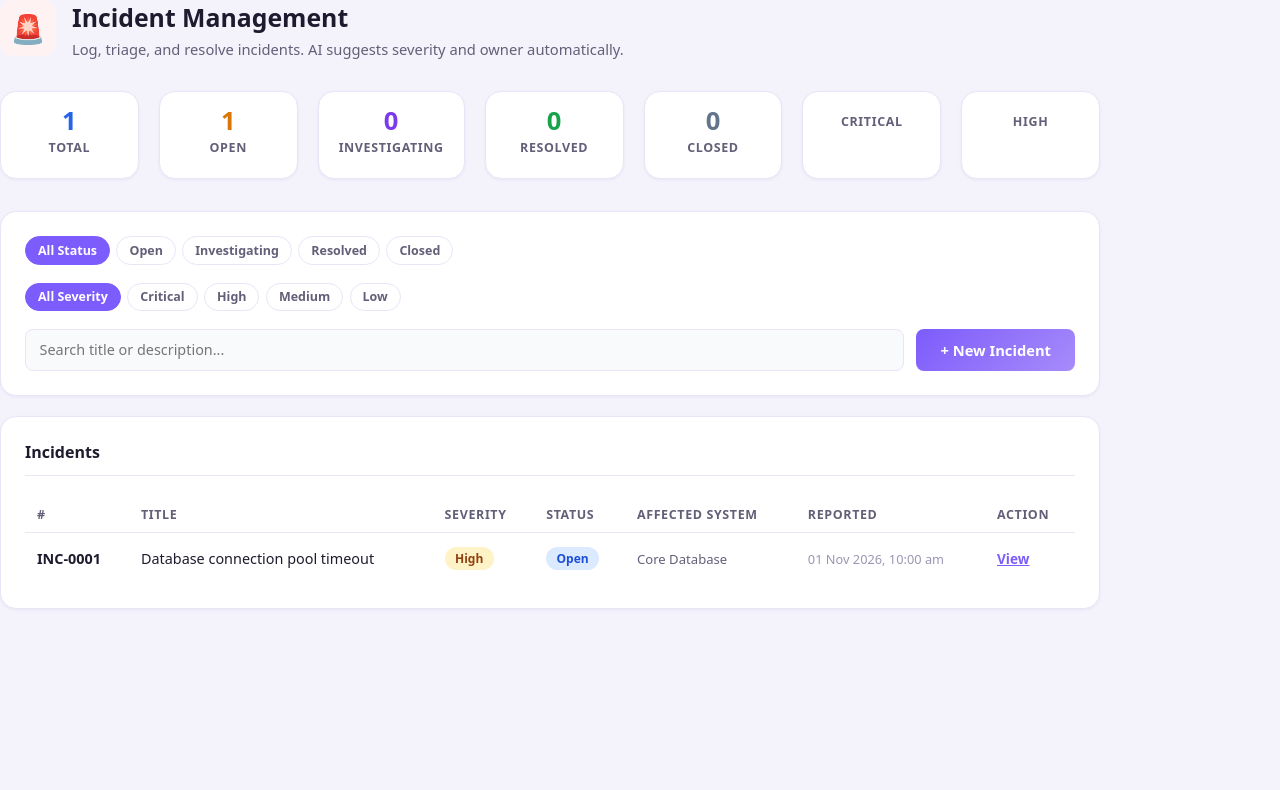
it: IncidentManagement AI Triage › shows informative error message when AI Triage API fails
Click the row with class "clickable-row" at (550, 558), box [25,533,1075,584]
(page scrolled)
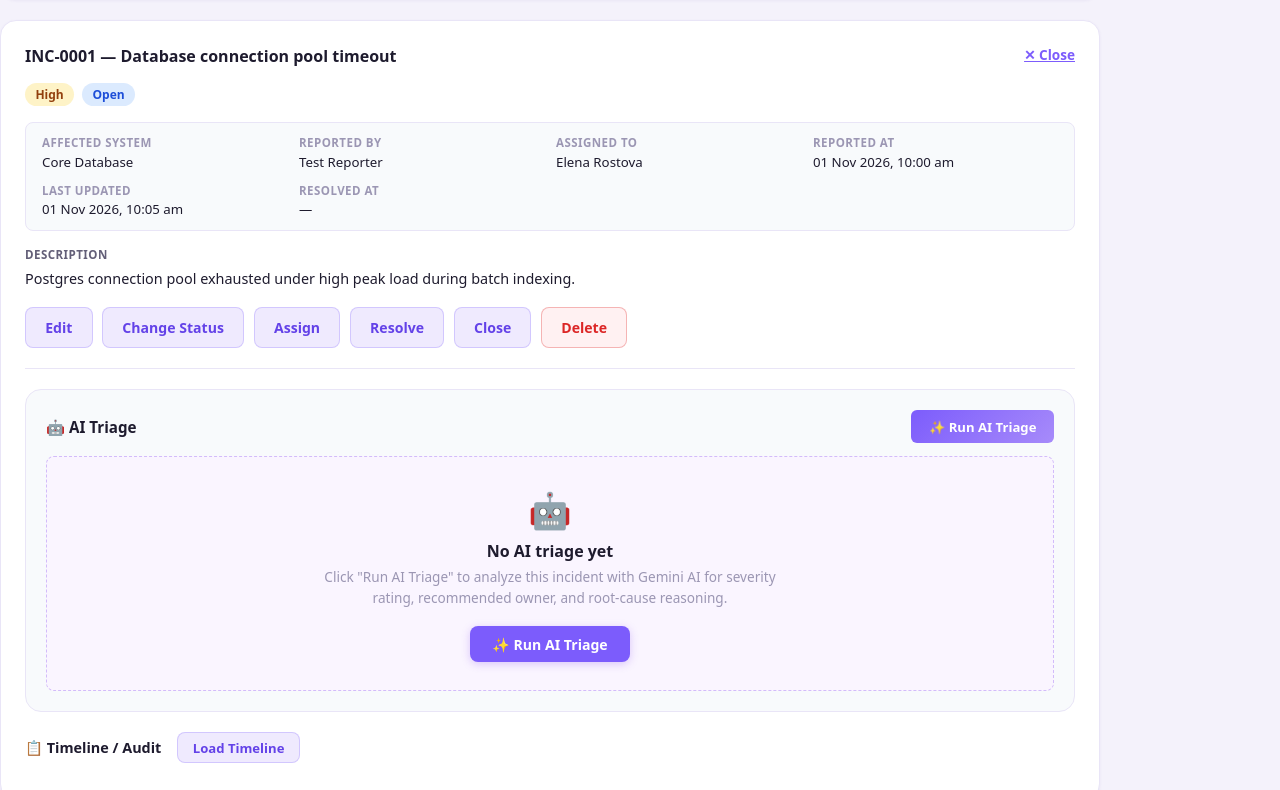
Click the button "✨ Run AI Triage" in the row of "🤖 AI Triage" at (983, 427), box [911,410,1054,443]
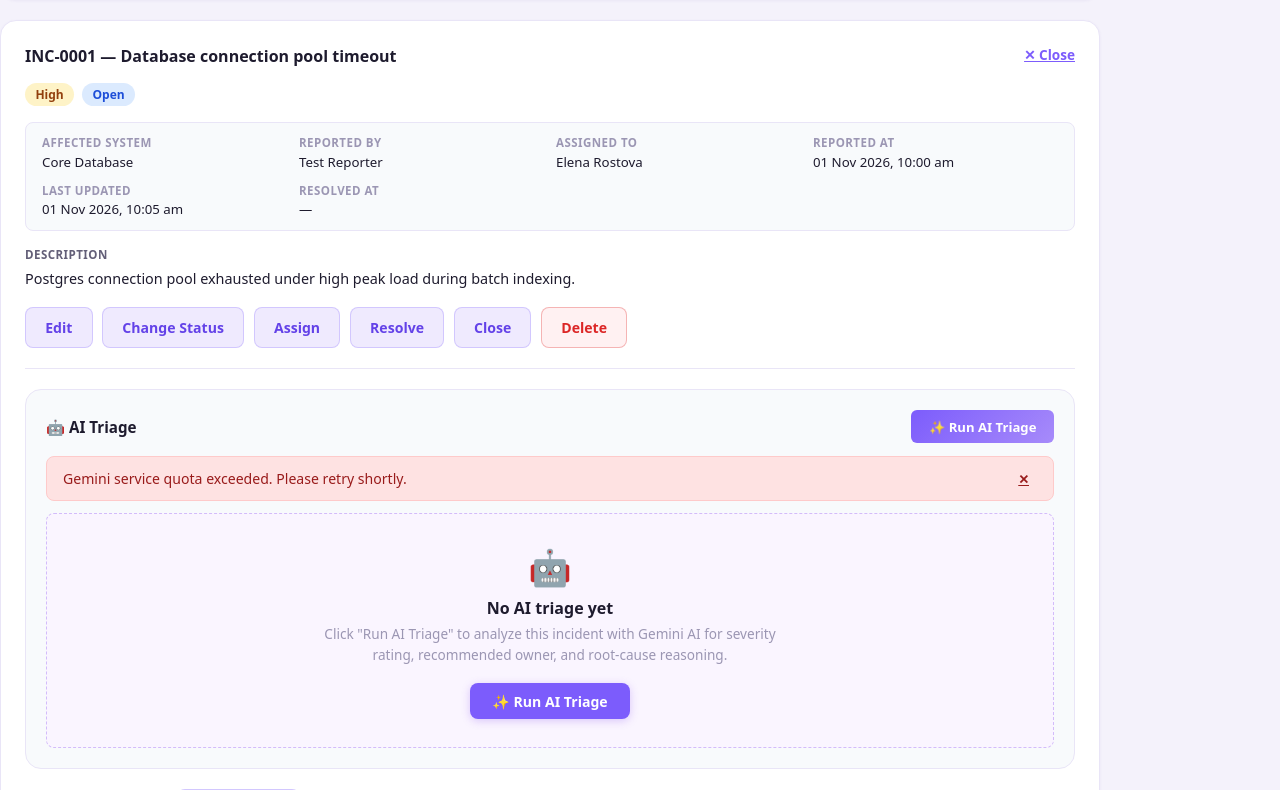
Check: the element with class "inc-triage-section" shows "Gemini service quota exceeded", box [63,469,407,488]
